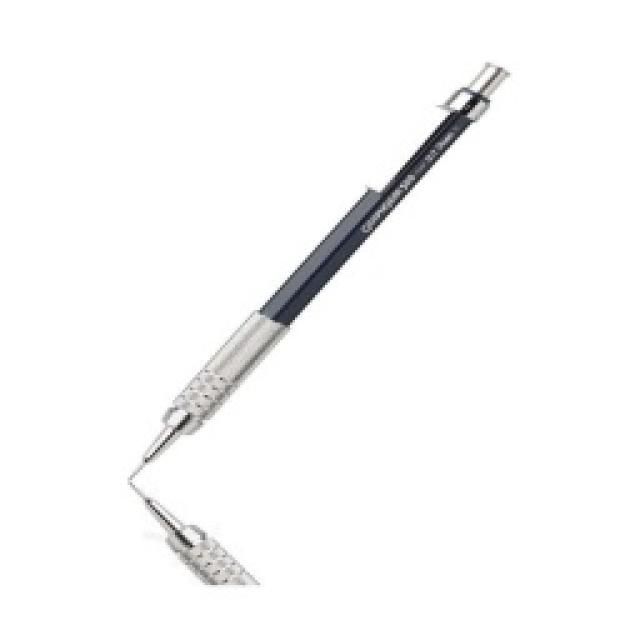pencil: (123, 55, 515, 590)
